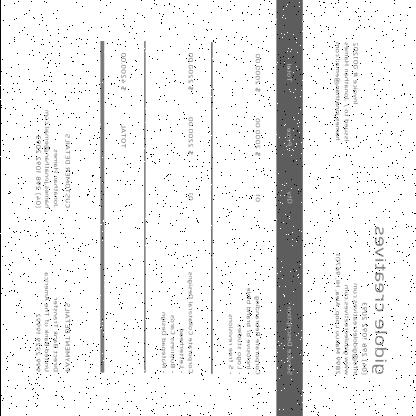Paragraph: (330, 222, 390, 382), (30, 106, 72, 212), (31, 268, 72, 376), (328, 35, 362, 147), (115, 47, 130, 156)
Table: (144, 41, 302, 379)
